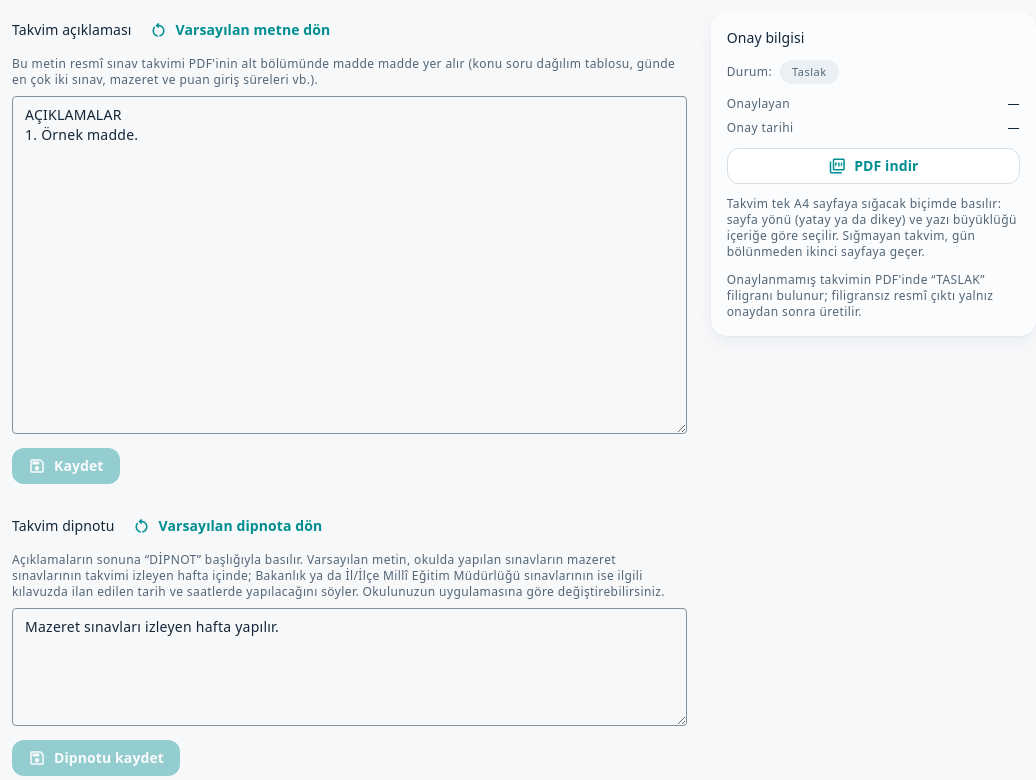
Test: TakvimOnizlemePaneli › varsayılan dipnota dönülür (kaydetmeden metni yükler)
Step 1. Click the button "Varsayılan dipnota dön" → point(227, 526), box [122,508,332,544]
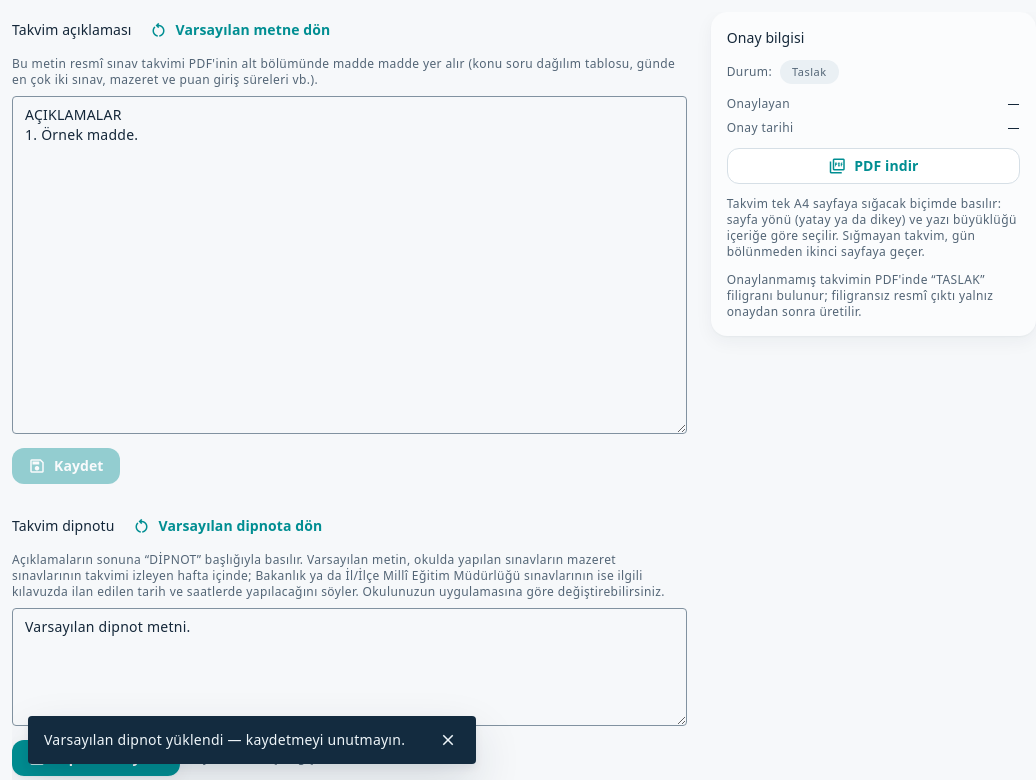
Result: the text box labelled "Takvim dipnotu" holds "Varsayılan dipnot metni." at [12,608,687,726]
